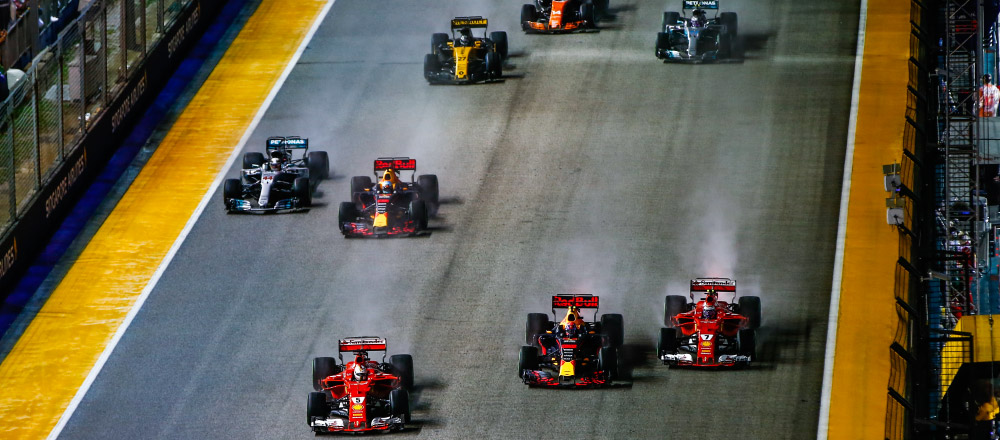race car: (513, 291, 631, 394), (305, 334, 409, 440), (653, 275, 764, 372), (336, 155, 442, 243), (223, 136, 330, 215), (420, 15, 509, 88), (652, 1, 743, 67), (514, 1, 613, 37)
